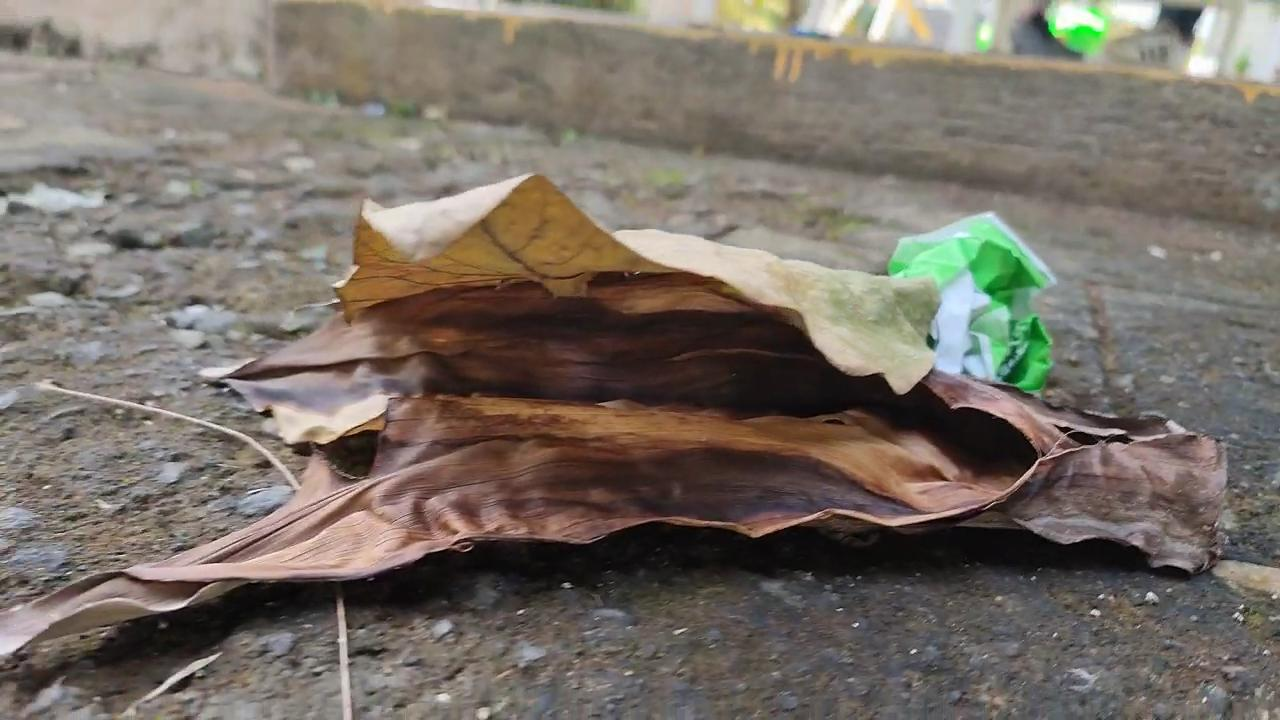Paper: (912, 206, 1070, 391)
